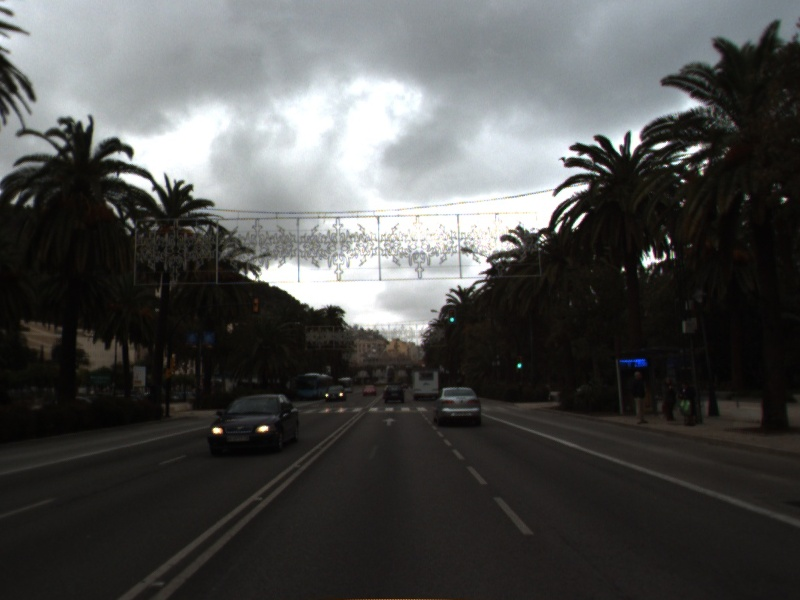STRAIGHT: (380, 415, 400, 428)
